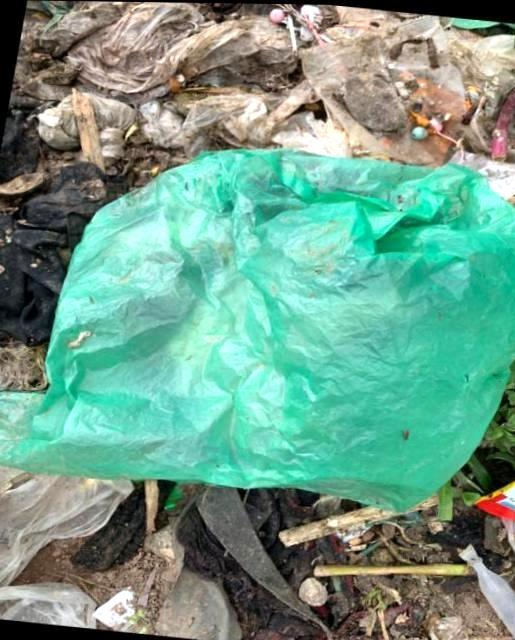polythene: (41, 109, 514, 537)
